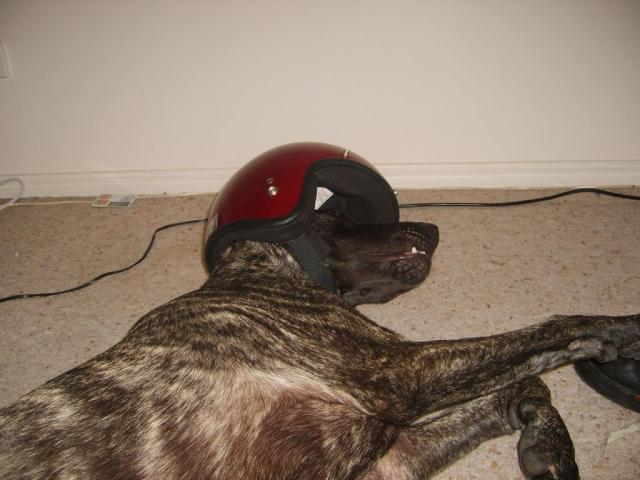Dog: (0, 208, 640, 480)
